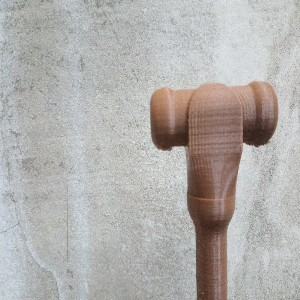palu: (150, 79, 279, 300)
